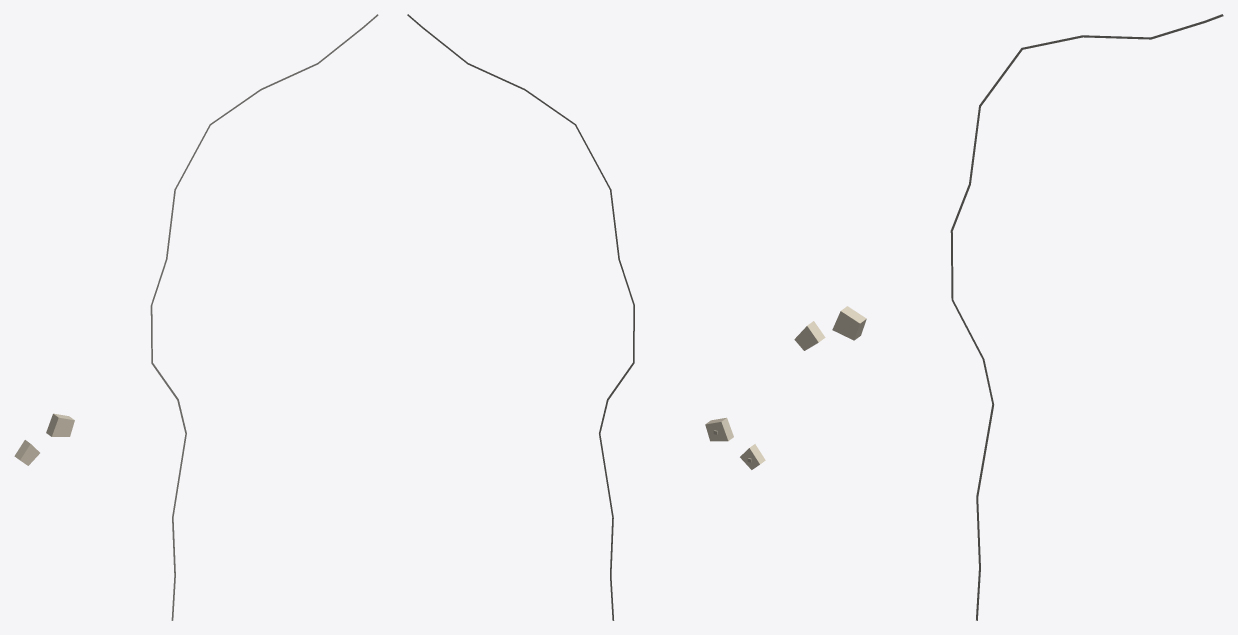
The model's file is historic-palestine-11_22_3528_3163.glb.
3 views of the same model, side by side, from view 1: azimuth 30°, elevation 25°; view 2: azimuth 150°, elevation 25°; view 3: azimuth 330°, elevation 25° (orthographic). The views are drawn at different scales.
Visible parts, largest first — view 1: Road, Building_.001; view 2: Road, Building_.001; view 3: Road, Building_.001.
Boxes of the visible parts, left/top/right/bottom form: Road: left=150, top=14, right=378, bottom=620; Building_.001: left=46, top=413, right=74, bottom=436; Road: left=407, top=14, right=634, bottom=620; Building_.001: left=705, top=417, right=733, bottom=441; Road: left=950, top=14, right=1223, bottom=620; Building_.001: left=832, top=306, right=866, bottom=340.
Size of the model in its own units: 274 by 406 by 8.7.
